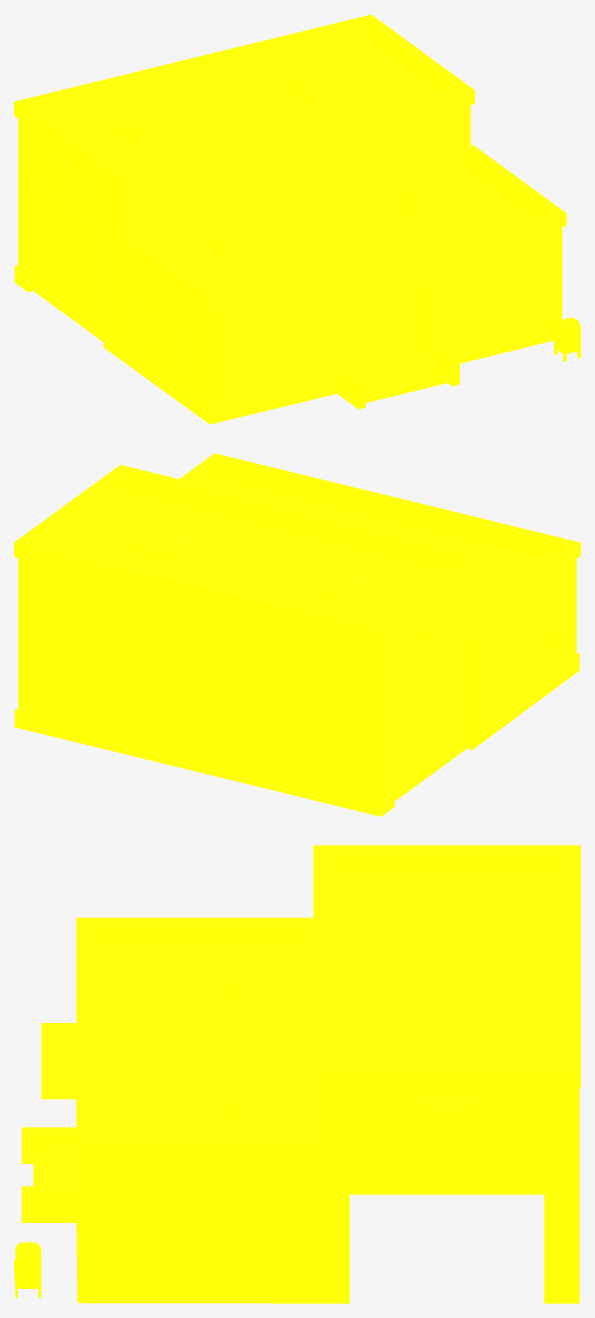
File: building-post.glb
3 views of the same model, one above another, from view 1: azimuth 30°, elevation 25°; view 2: azimuth 150°, elevation 25°; view 3: azimuth 270°, elevation 25° (orthographic). The views are drawn at different scales.
Parts seen in each view (by area): view 1: building-post; view 2: building-post; view 3: building-post.
Part boxes in pixels (x1,y1,x2,y2): building-post: [14, 14, 580, 424]; building-post: [14, 453, 580, 816]; building-post: [14, 845, 580, 1303].
Size of the model in its own units: 13.92 by 6.6 by 14.55.
Materials: 1 (1 with a texture image).
